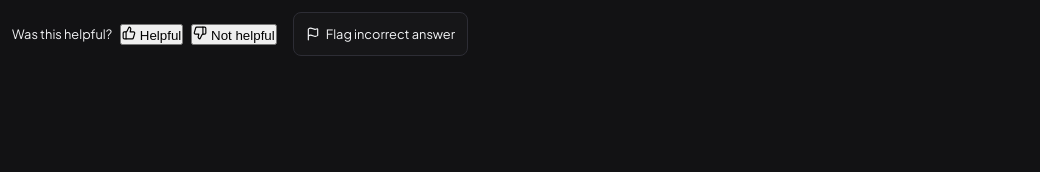
Scenario: Feedback readback and safe retry › fails closed for unavailable or malformed history and supports retry ({})
Click the button "Helpful" at x=152, y=34, box [120, 24, 183, 44]
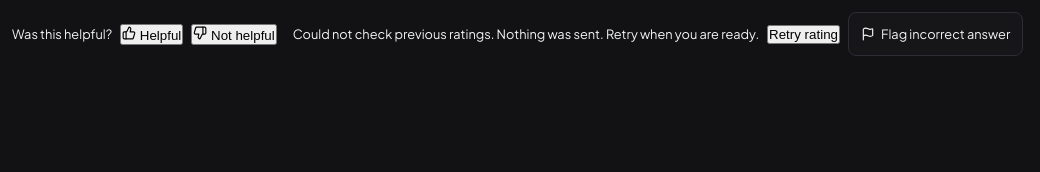
Expected: the message shows "Nothing was sent", [293, 26, 759, 42]
Click the button "Retry rating" at x=804, y=34, box [767, 24, 840, 44]
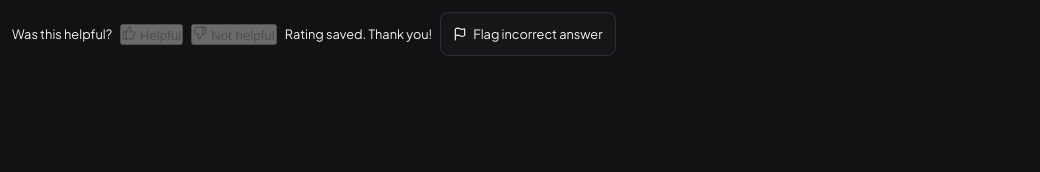
Expected: the text "Rating saved. Thank you!" is shown, [285, 26, 432, 42]
